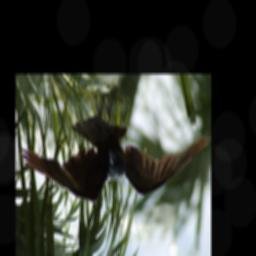Crow: (20, 97, 210, 204)
